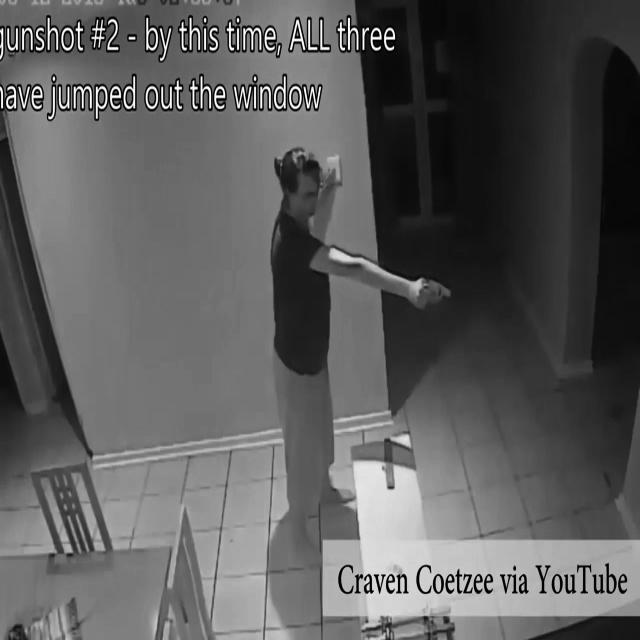gun: (408, 278, 452, 312)
person with a gun: (268, 145, 452, 543)
